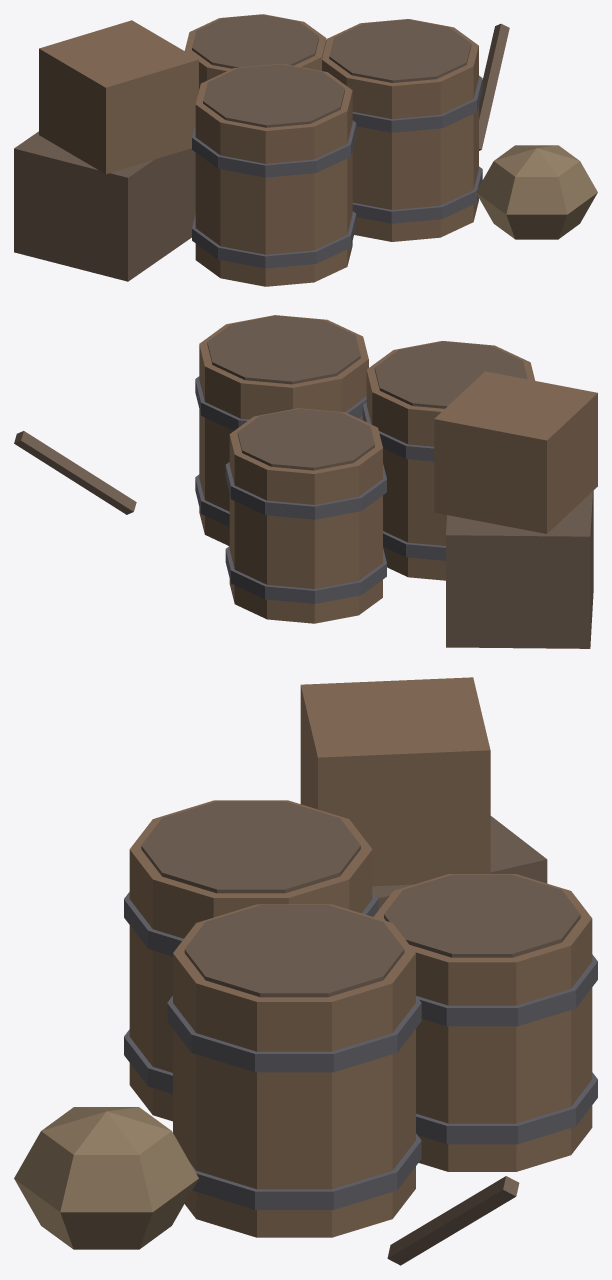
The model's file is barrels.glb.
3 views of the same model, one above another, from view 1: azimuth 30°, elevation 25°; view 2: azimuth 150°, elevation 25°; view 3: azimuth 270°, elevation 25° (orthographic). The views are drawn at different scales.
Parts seen in each view (by area): view 1: barrels; view 2: barrels; view 3: barrels.
Boxes of the visible parts, x1,y1,x2,y2 form: barrels: (14, 14, 597, 286); barrels: (14, 315, 597, 648); barrels: (14, 677, 597, 1265).
Bounding box in the file's own units: 3.1 × 1.11 × 2.02.
